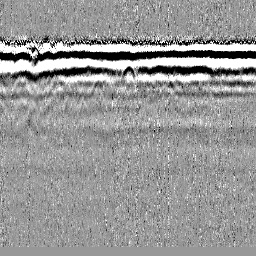cavity: (119, 60, 138, 89)
